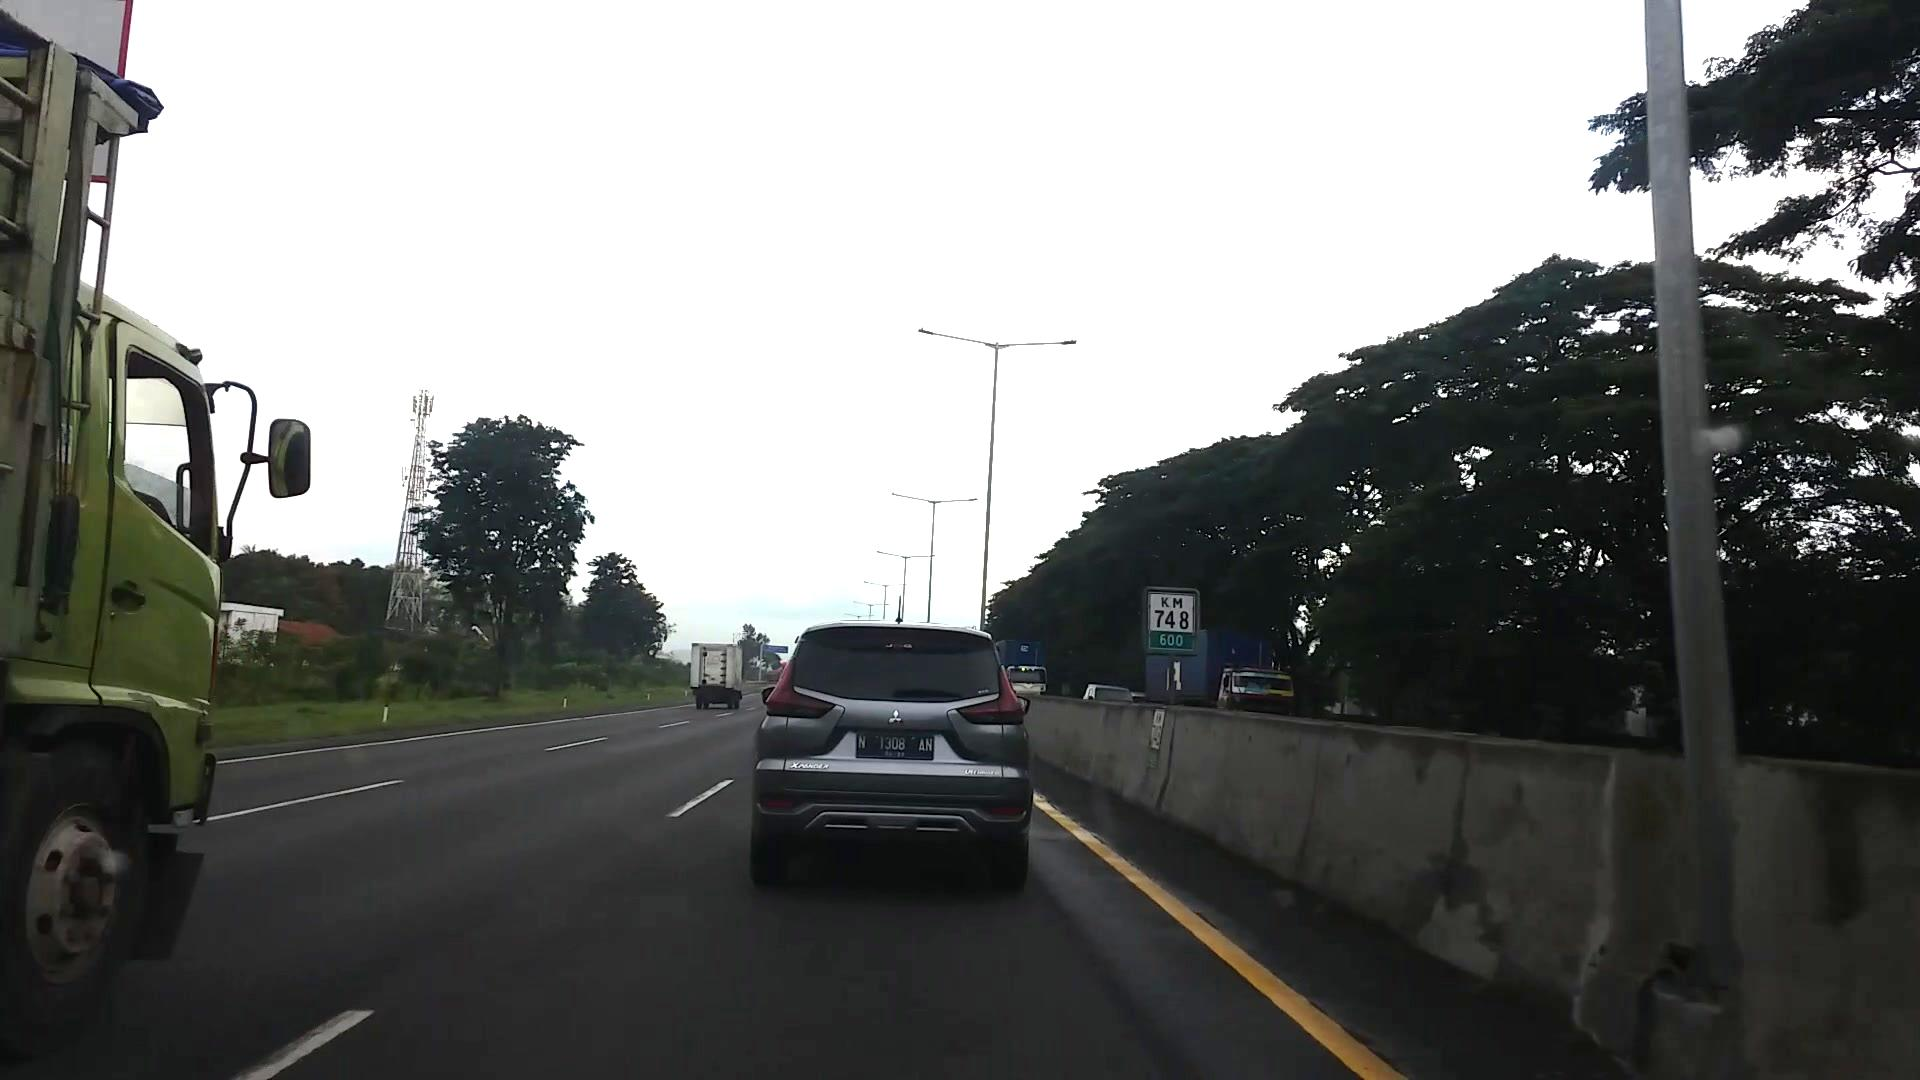plate_positive: (856, 731, 934, 761)
